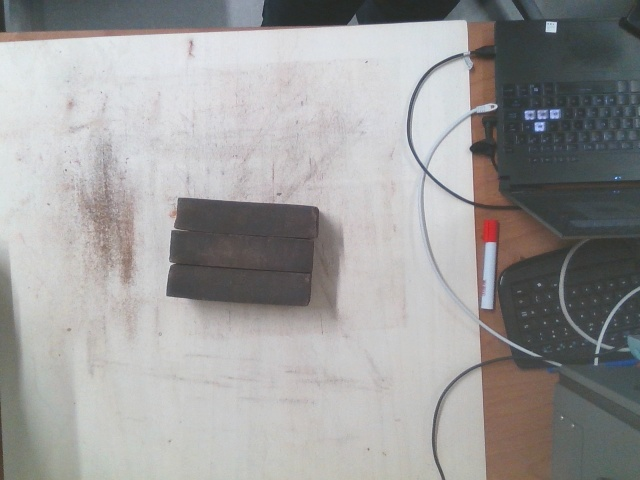brick-side: (171, 230, 312, 274), (167, 262, 308, 306), (174, 196, 315, 240)
